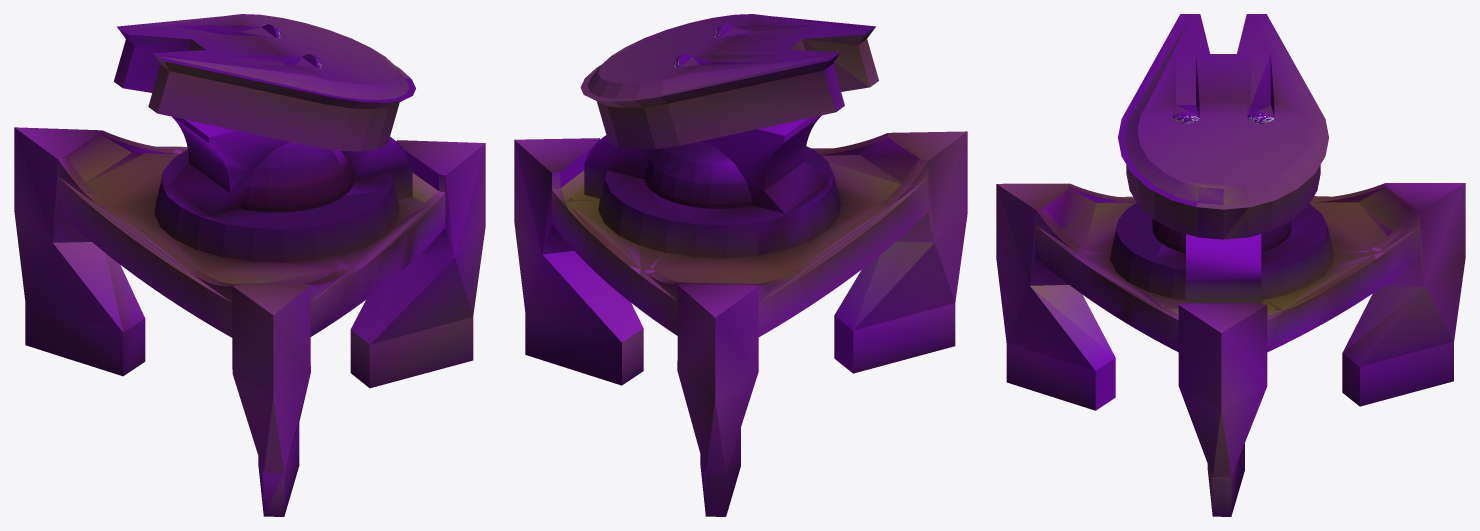
Rendered from torreta_3.fbx.
The picture shows the model from 3 angles, left to right: view 1: azimuth 30°, elevation 25°; view 2: azimuth 150°, elevation 25°; view 3: azimuth 270°, elevation 25°; orthographic projection. The views are drawn at different scales.
Visible parts, largest first — view 1: Camera_001; view 2: Camera_001; view 3: Camera_001.
Part boxes in pixels (bbox=[...]): Camera_001: bbox=[14, 14, 485, 516]; Camera_001: bbox=[514, 14, 967, 516]; Camera_001: bbox=[996, 14, 1465, 516].
Size of the model in its own units: 3.12 by 3.35 by 3.99.
